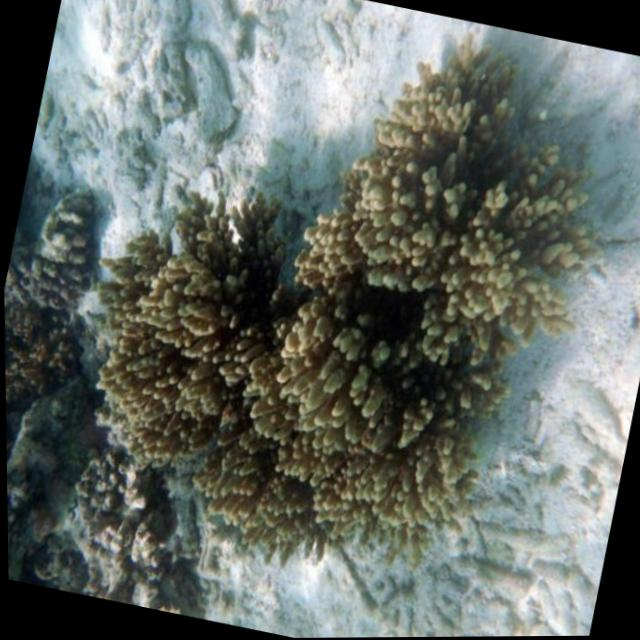Healthy Coral: (21, 0, 619, 628)
